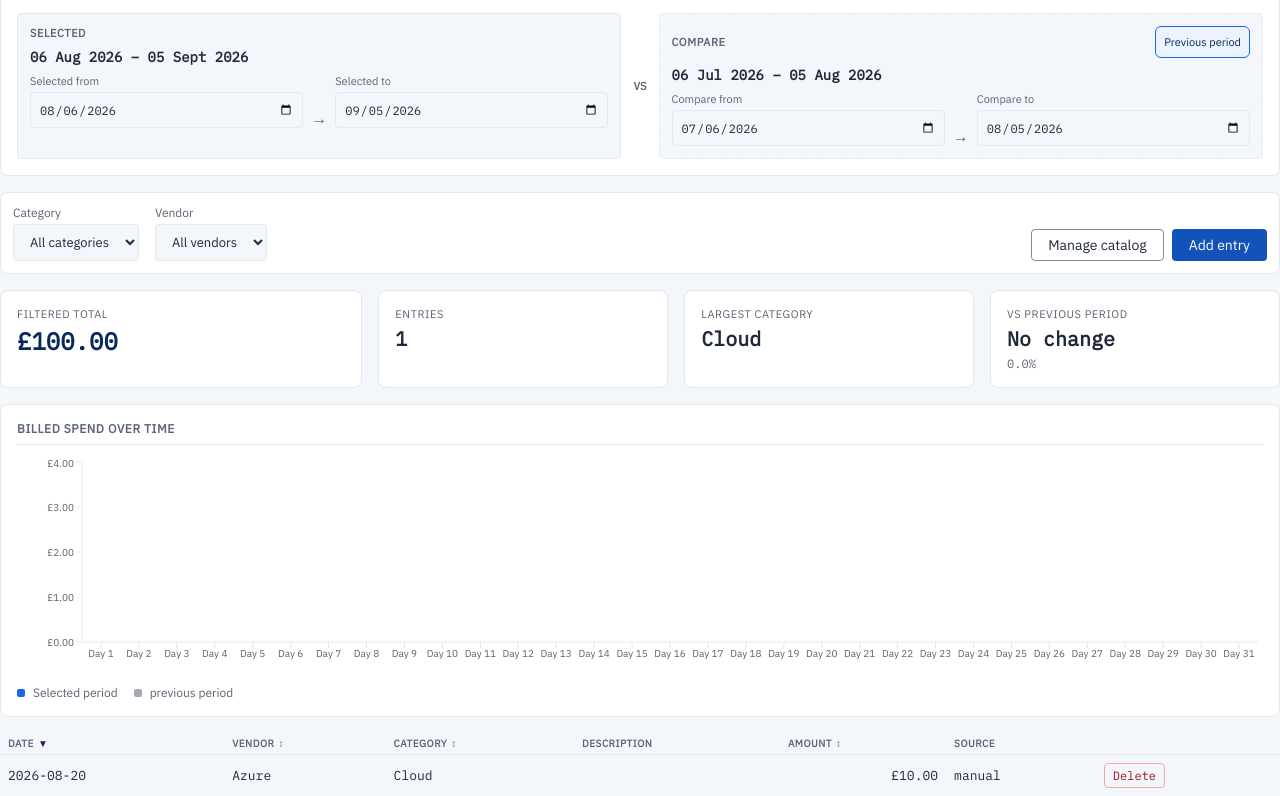
Test case: shows a delete failure inline instead of a blocking alert
The width and height of the screenshot is (1280, 796).
(page scrolled)
Click the button with aria-label "Delete entry from 2026-08-20". click: (1134, 776)
box: [1104, 763, 1165, 788]
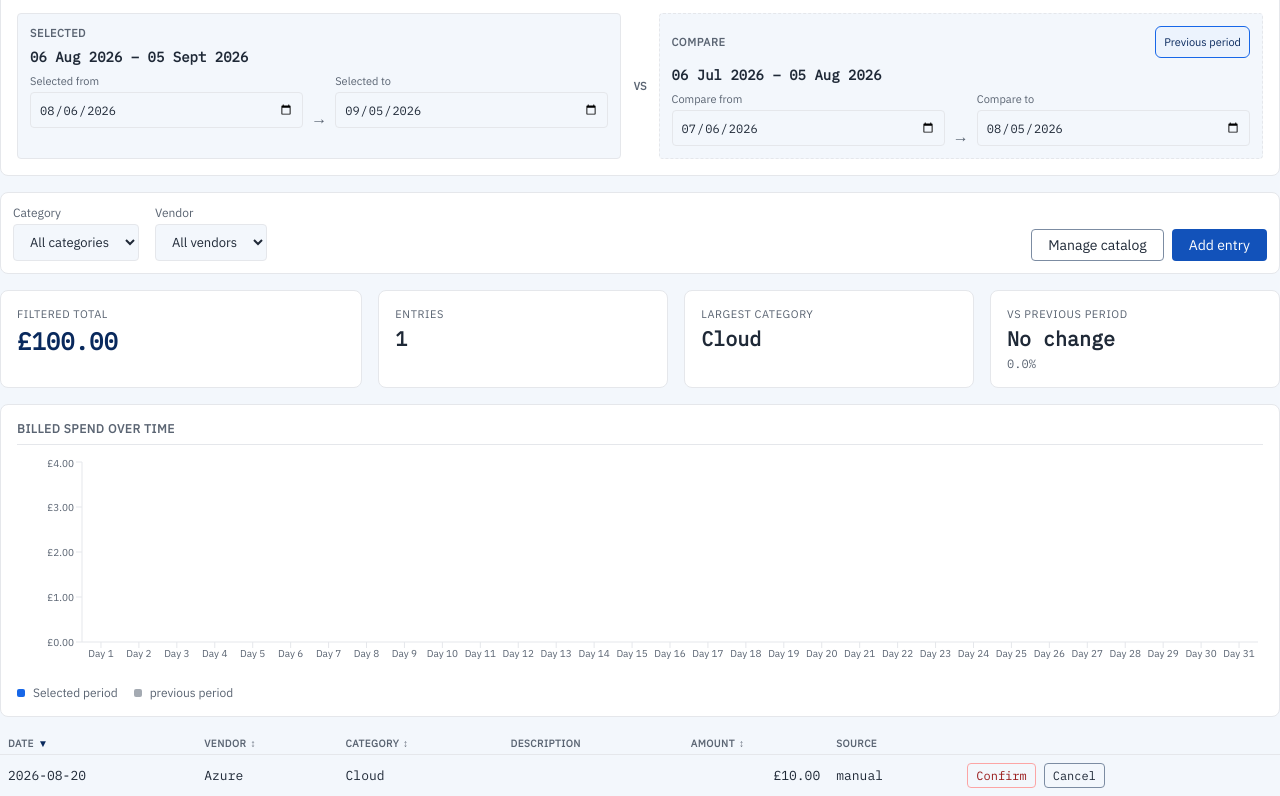
Click the button with aria-label "Confirm delete entry from 2026-08-20". click: (1002, 776)
box: [967, 763, 1036, 788]
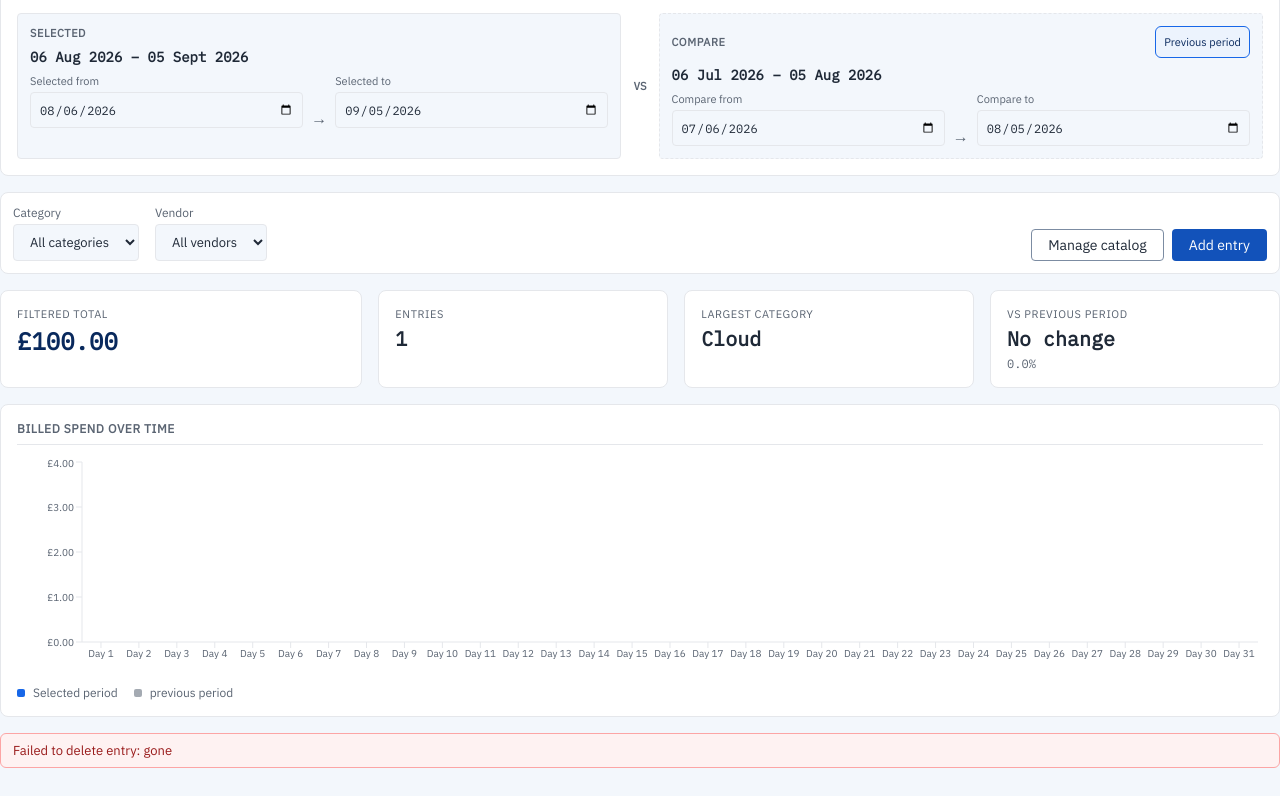
Expected: the message reads "Failed to delete entry: gone", [13, 742, 172, 759]
